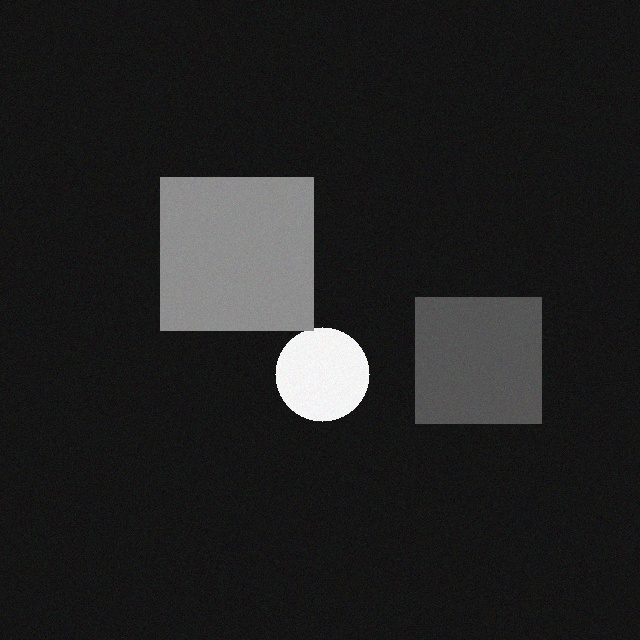circle: (284, 325, 378, 419)
square: (169, 175, 322, 328), (424, 295, 550, 421)
